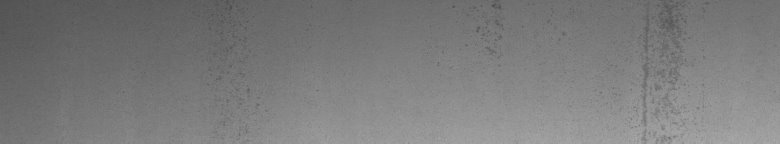ib: (476, 4, 566, 55)
